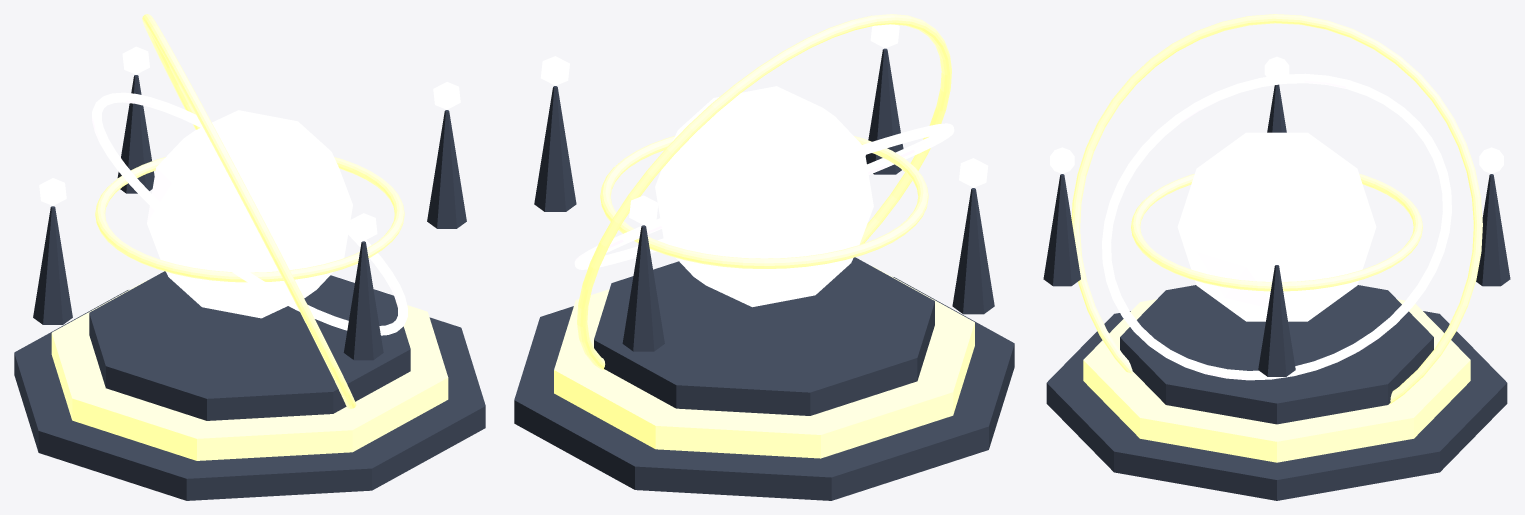
The model's file is gpu-blender-v46.glb.
3 renders of one model, left to right at view 1: azimuth 30°, elevation 25°; view 2: azimuth 150°, elevation 25°; view 3: azimuth 270°, elevation 25°, orthographic. The views are drawn at different scales.
Parts seen in each view (by area): view 1: Cylinder.002, SovereignCore_aeo-graph-engine, Cylinder, Cylinder.001, Torus.001, Torus.002, Torus, Cone.003, Cone, Cone.002, Cone.001, Icosphere.002 (+3 smaller); view 2: Cylinder.002, SovereignCore_aeo-graph-engine, Cylinder, Cylinder.001, Torus.002, Torus, Torus.001, Cone.002, Cone.001, Cone, Cone.003, Icosphere (+3 smaller); view 3: SovereignCore_aeo-graph-engine, Cylinder.002, Cylinder, Cylinder.001, Torus.001, Torus.002, Torus, Cone.003, Cone, Cone.001, Cone.002, Icosphere (+2 smaller).
Part boxes in pixels (x1,y1,x2,y2): Cylinder.002: (89, 271, 410, 420); SovereignCore_aeo-graph-engine: (147, 110, 352, 318); Cylinder: (14, 290, 485, 500); Cylinder.001: (51, 280, 448, 460); Torus.001: (92, 92, 407, 335); Torus.002: (142, 14, 356, 408); Torus: (95, 157, 404, 282); Cone.003: (343, 241, 383, 360); Cone: (427, 110, 466, 228); Cone.002: (33, 206, 72, 324); Cone.001: (117, 75, 154, 193); Icosphere.002: (39, 178, 66, 205); Cylinder.002: (594, 257, 934, 415); SovereignCore_aeo-graph-engine: (655, 86, 873, 307); Cylinder: (514, 277, 1014, 500); Cylinder.001: (554, 266, 974, 458); Torus.002: (577, 14, 951, 369); Torus: (600, 136, 928, 268); Torus.001: (574, 123, 954, 269); Cone.002: (952, 188, 994, 314); Cone.001: (622, 225, 664, 351); Cone: (534, 86, 576, 211); Cone.003: (865, 48, 903, 174); Icosphere: (540, 56, 569, 85); SovereignCore_aeo-graph-engine: (1177, 132, 1376, 321); Cylinder.002: (1120, 285, 1433, 424); Cylinder: (1046, 311, 1507, 500); Cylinder.001: (1083, 299, 1470, 462); Torus.001: (1102, 73, 1451, 380); Torus.002: (1071, 14, 1482, 403); Torus: (1131, 174, 1422, 291); Cone.003: (1043, 174, 1080, 286); Cone: (1258, 265, 1295, 376); Cone.001: (1476, 174, 1510, 286); Cone.002: (1267, 84, 1286, 132); Icosphere: (1264, 238, 1289, 264).
Size of the model in its own units: 4.41 by 3.72 by 4.46.
